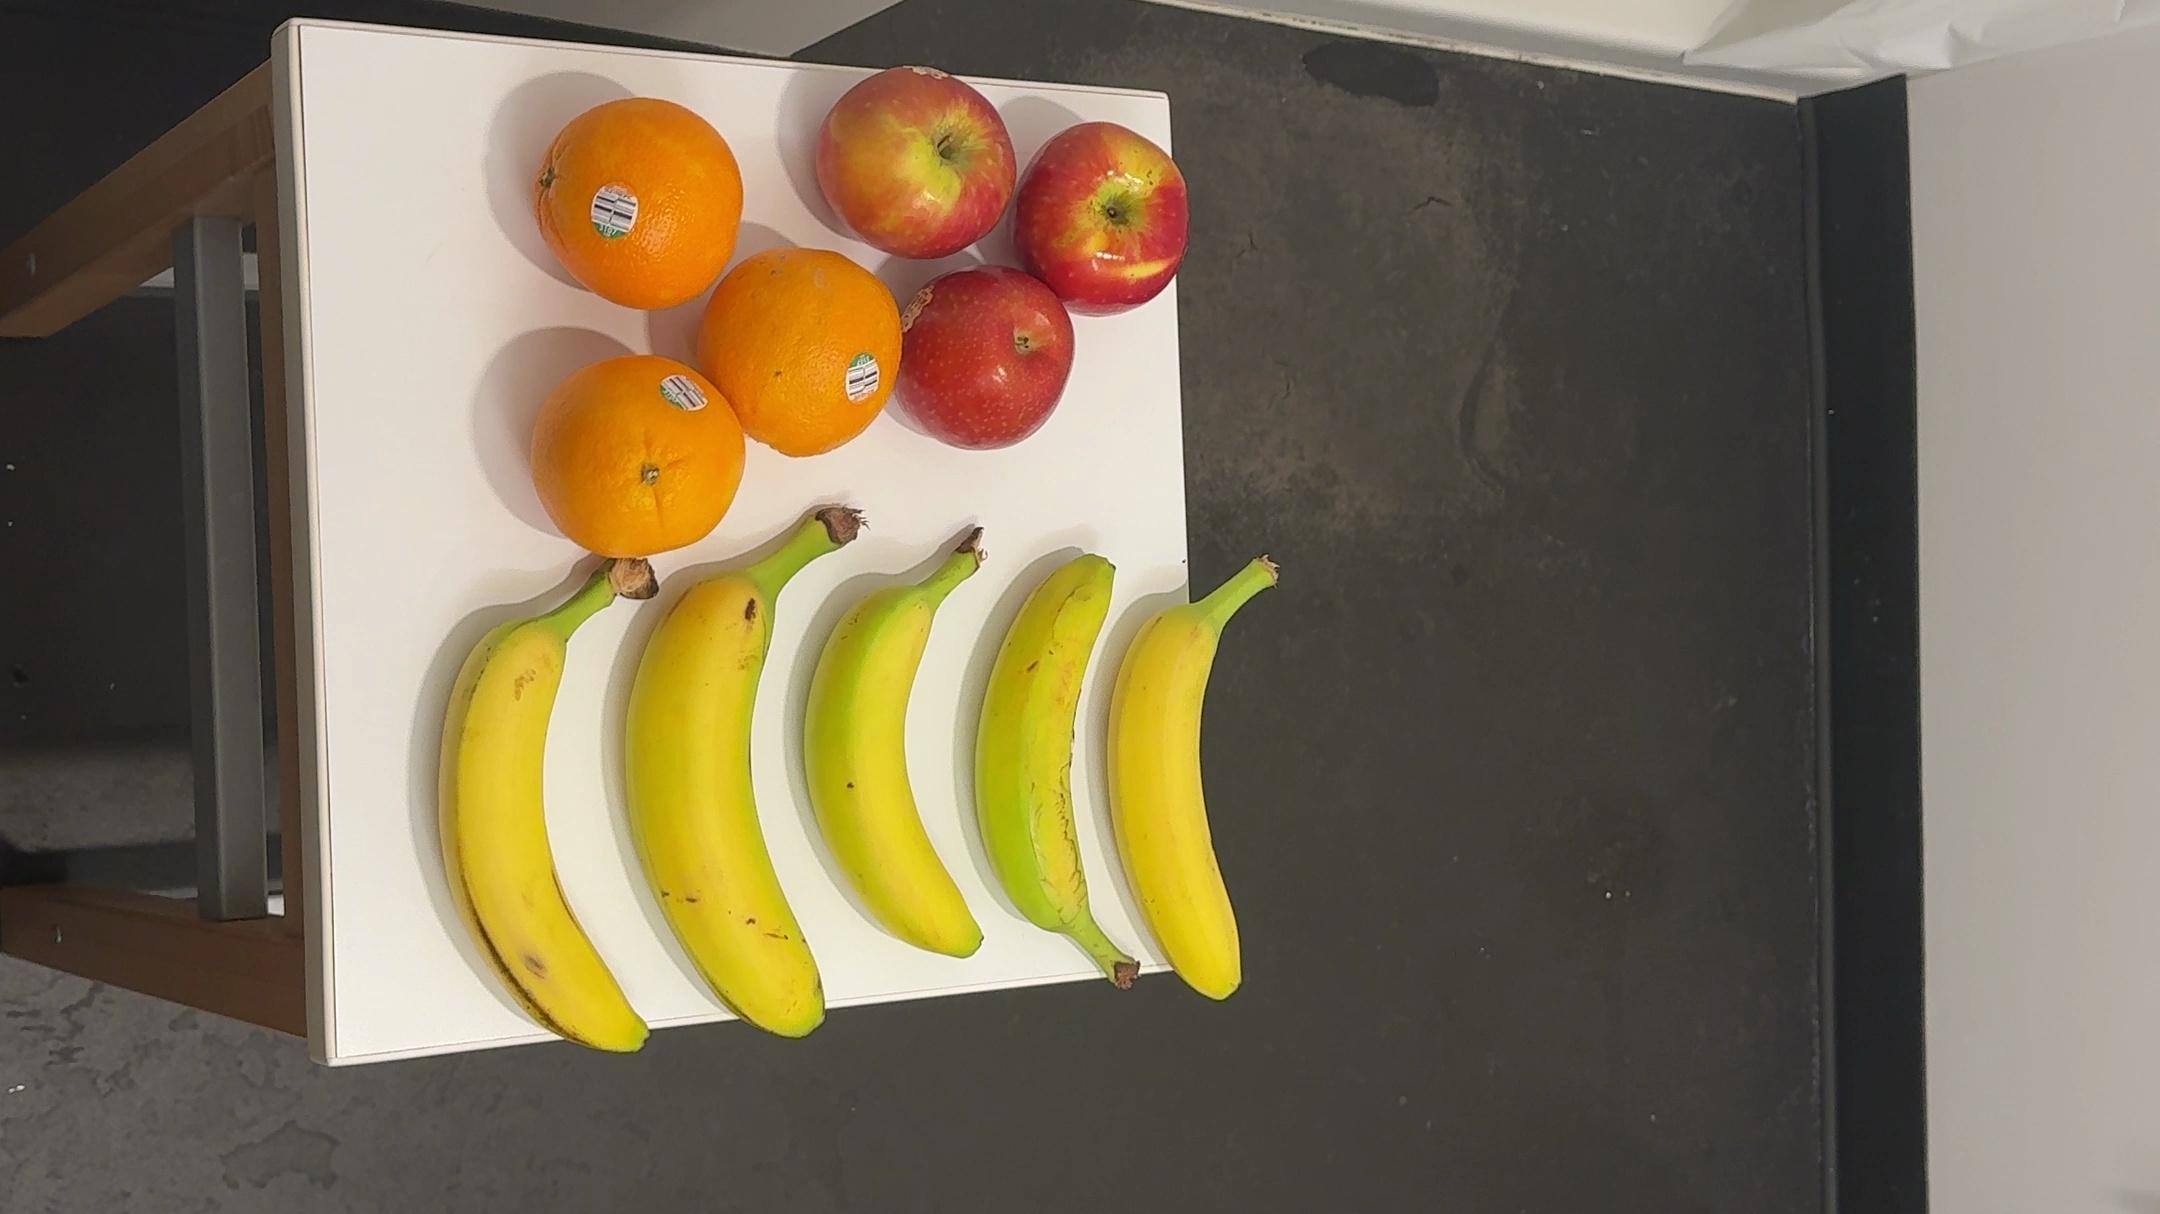apple: (811, 65, 1007, 269), (1015, 119, 1205, 319), (899, 267, 1076, 470)
banana: (625, 496, 859, 1057), (429, 548, 657, 1072), (803, 515, 1000, 1002), (1110, 543, 1294, 1023), (978, 534, 1151, 1005)
orange: (525, 343, 751, 573), (530, 93, 745, 321), (705, 246, 906, 472)
